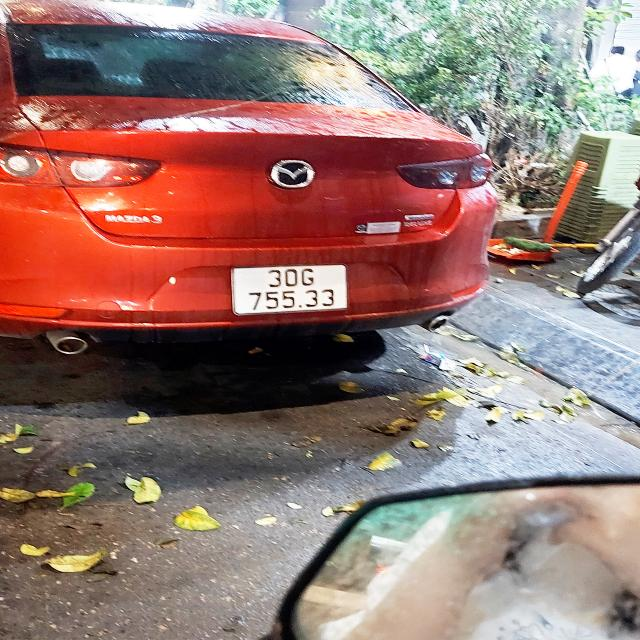license_plate: (231, 264, 349, 316)
